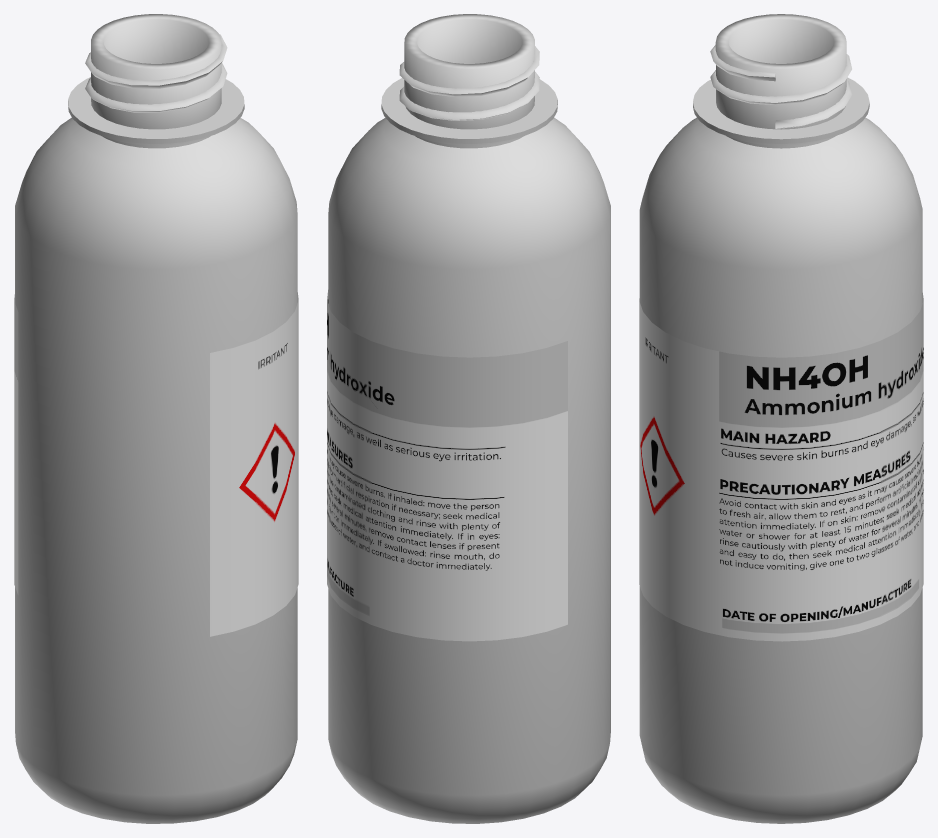
The model's file is botol_plastik.fbx.
The picture shows the model from 3 angles, left to right: view 1: azimuth 30°, elevation 25°; view 2: azimuth 150°, elevation 25°; view 3: azimuth 270°, elevation 25°; orthographic projection.
Visible parts, largest first — view 1: Sphere.049; view 2: Sphere.049; view 3: Sphere.049.
Boxes of the visible parts, left/top/right/bottom form: Sphere.049: left=14, top=14, right=298, bottom=823; Sphere.049: left=327, top=14, right=610, bottom=823; Sphere.049: left=639, top=14, right=923, bottom=823.
Size of the model in its own units: 4.57 by 13.04 by 4.57.
2 materials, 1 textured.
